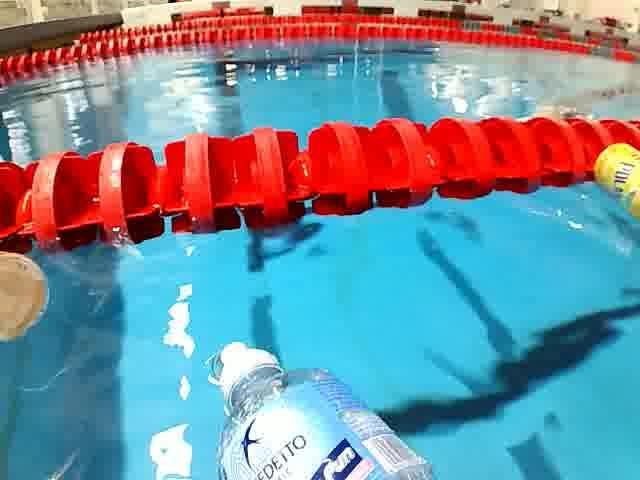Bottle: (200, 340, 444, 480)
Can: (588, 137, 640, 218)
